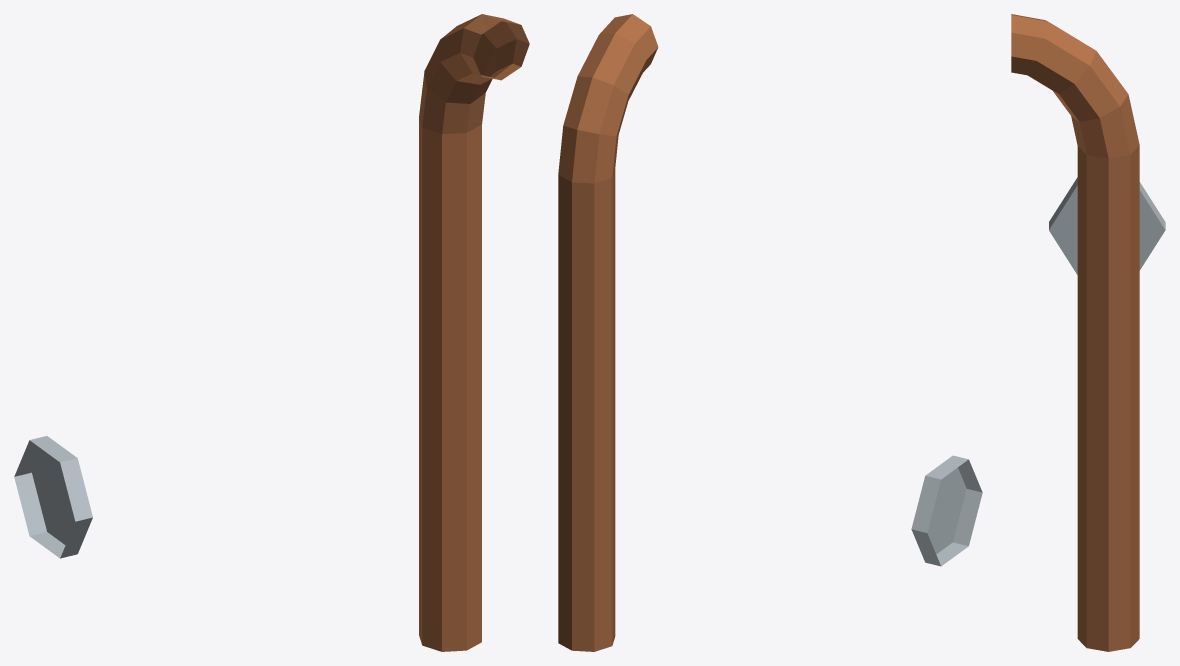
Rendered from cell_25.obj.
3 views of the same model, side by side, from view 1: azimuth 30°, elevation 25°; view 2: azimuth 150°, elevation 25°; view 3: azimuth 270°, elevation 25° (orthographic). The views are drawn at different scales.
Bounding box in the file's own units: 0.246 × 0.354 × 0.0792.
